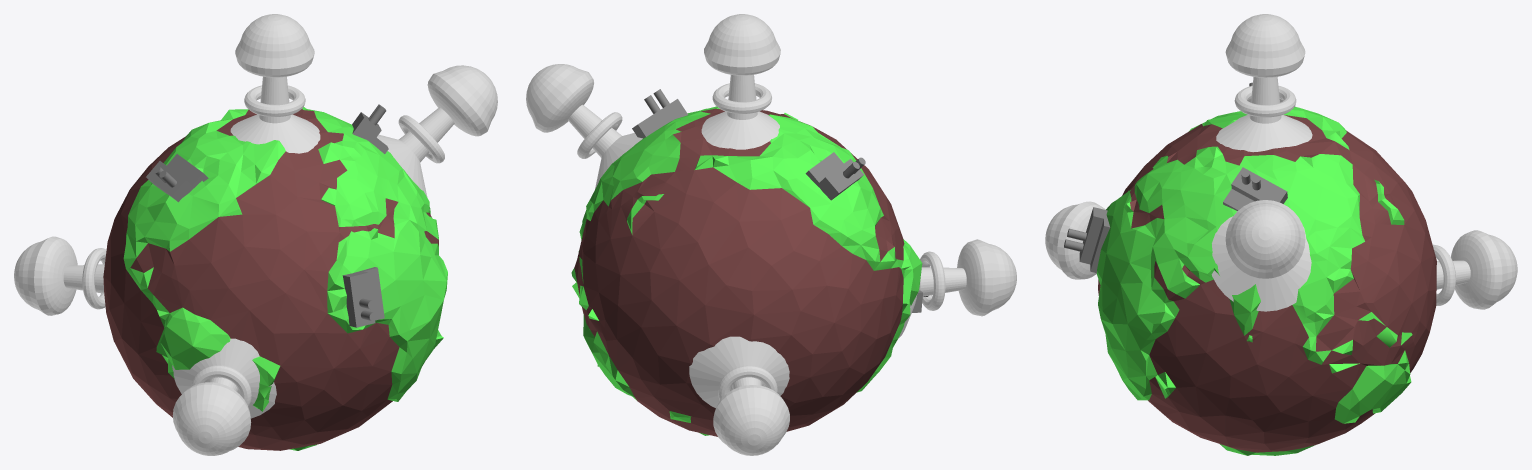
Rendered from earth5.gltf.
3 renders of one model, left to right at view 1: azimuth 30°, elevation 25°; view 2: azimuth 150°, elevation 25°; view 3: azimuth 270°, elevation 25°, orthographic. The views are drawn at different scales.
Visible parts, largest first — view 1: Icosphere001, Cylinder_1, Cylinder, Cylinder_2, Cylinder_3, Cube_2, Cube, Cube_3; view 2: Icosphere001, Cylinder_3, Cylinder_1, Cylinder_2, Cylinder, Cube, Cube_3; view 3: Icosphere001, Cylinder_1, Cylinder_2, Cylinder_3, Cylinder, Cube_3, Cube_2.
Boxes of the visible parts, left/top/right/bottom form: Icosphere001: left=103, top=107, right=447, bottom=450; Cylinder_1: left=230, top=14, right=320, bottom=153; Cylinder: left=172, top=338, right=276, bottom=455; Cylinder_2: left=377, top=65, right=497, bottom=210; Cylinder_3: left=14, top=236, right=106, bottom=315; Cube_2: left=342, top=267, right=384, bottom=327; Cube: left=146, top=154, right=208, bottom=202; Cube_3: left=352, top=104, right=388, bottom=153; Icosphere001: left=571, top=106, right=922, bottom=436; Cylinder_3: left=689, top=336, right=789, bottom=455; Cylinder_1: left=701, top=14, right=780, bottom=149; Cylinder_2: left=526, top=64, right=642, bottom=189; Cylinder: left=898, top=239, right=1016, bottom=338; Cube: left=805, top=152, right=865, bottom=200; Cube_3: left=632, top=89, right=687, bottom=138; Icosphere001: left=1096, top=107, right=1436, bottom=455; Cylinder_1: left=1216, top=14, right=1312, bottom=152; Cylinder_2: left=1211, top=200, right=1311, bottom=311; Cylinder_3: left=1432, top=230, right=1517, bottom=309; Cylinder: left=1045, top=201, right=1105, bottom=279; Cube_3: left=1223, top=167, right=1287, bottom=210; Cube_2: left=1064, top=207, right=1110, bottom=273.
Bounding box in the file's own units: 13.74 × 13.68 × 13.85.
